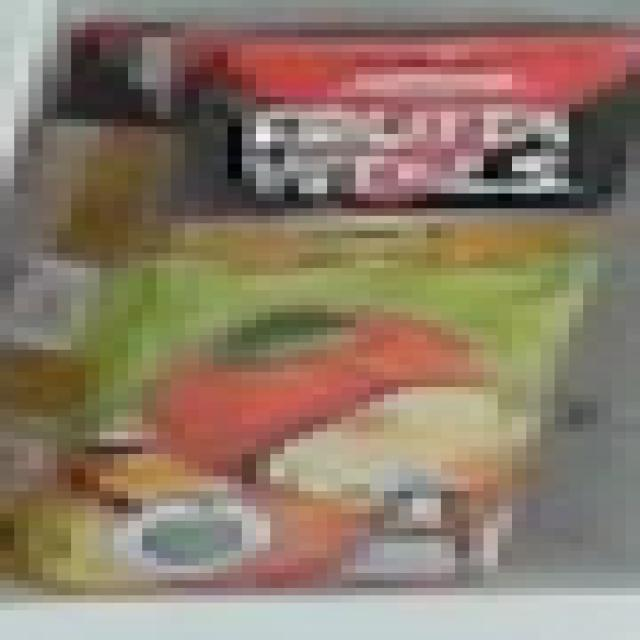Plastic: (6, 32, 634, 589)
